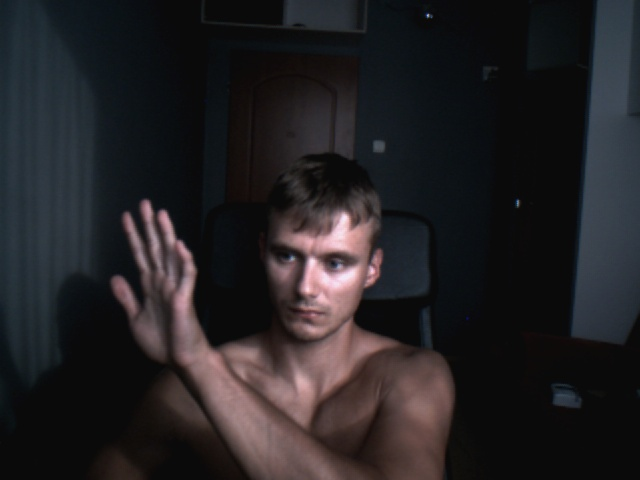open: (108, 199, 197, 366)
